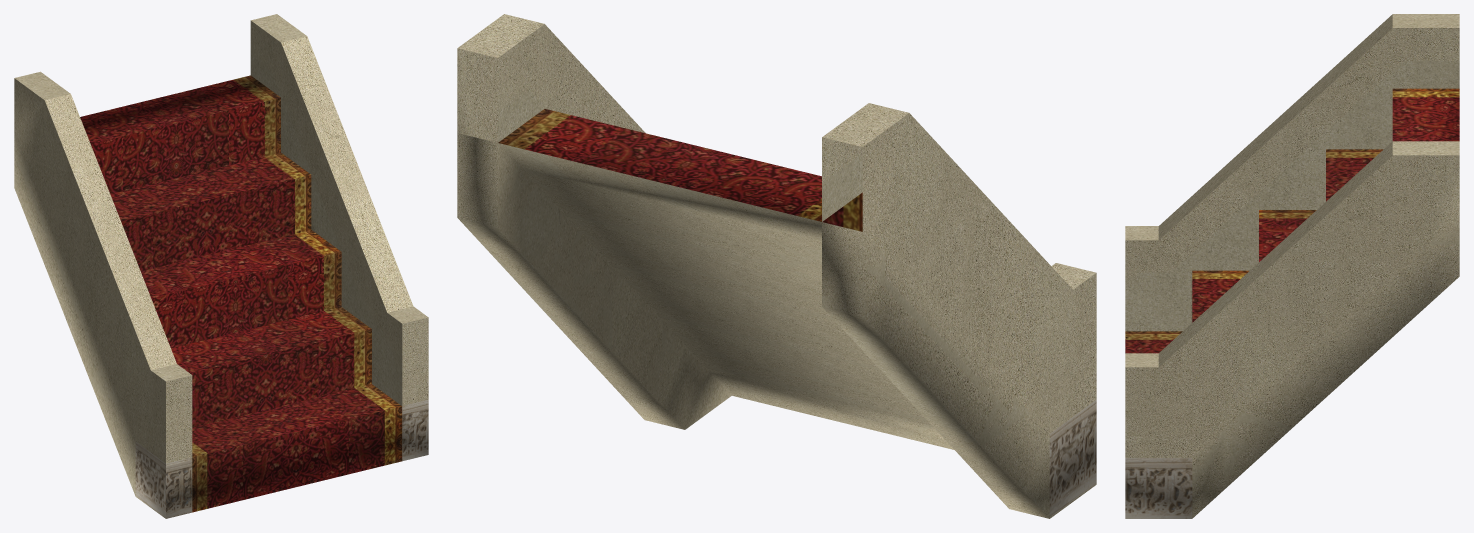
File: stairs.fbx
3 views of the same model, side by side, from view 1: azimuth 30°, elevation 25°; view 2: azimuth 150°, elevation 25°; view 3: azimuth 270°, elevation 25° (orthographic). The views are drawn at different scales.
Visible parts, largest first — view 1: stairs; view 2: stairs; view 3: stairs.
Boxes of the visible parts, bbox=[...] form: stairs: bbox=[14, 14, 428, 518]; stairs: bbox=[457, 14, 1096, 518]; stairs: bbox=[1125, 14, 1459, 518].
Bounding box in the file's own units: 100 × 120 × 100.
